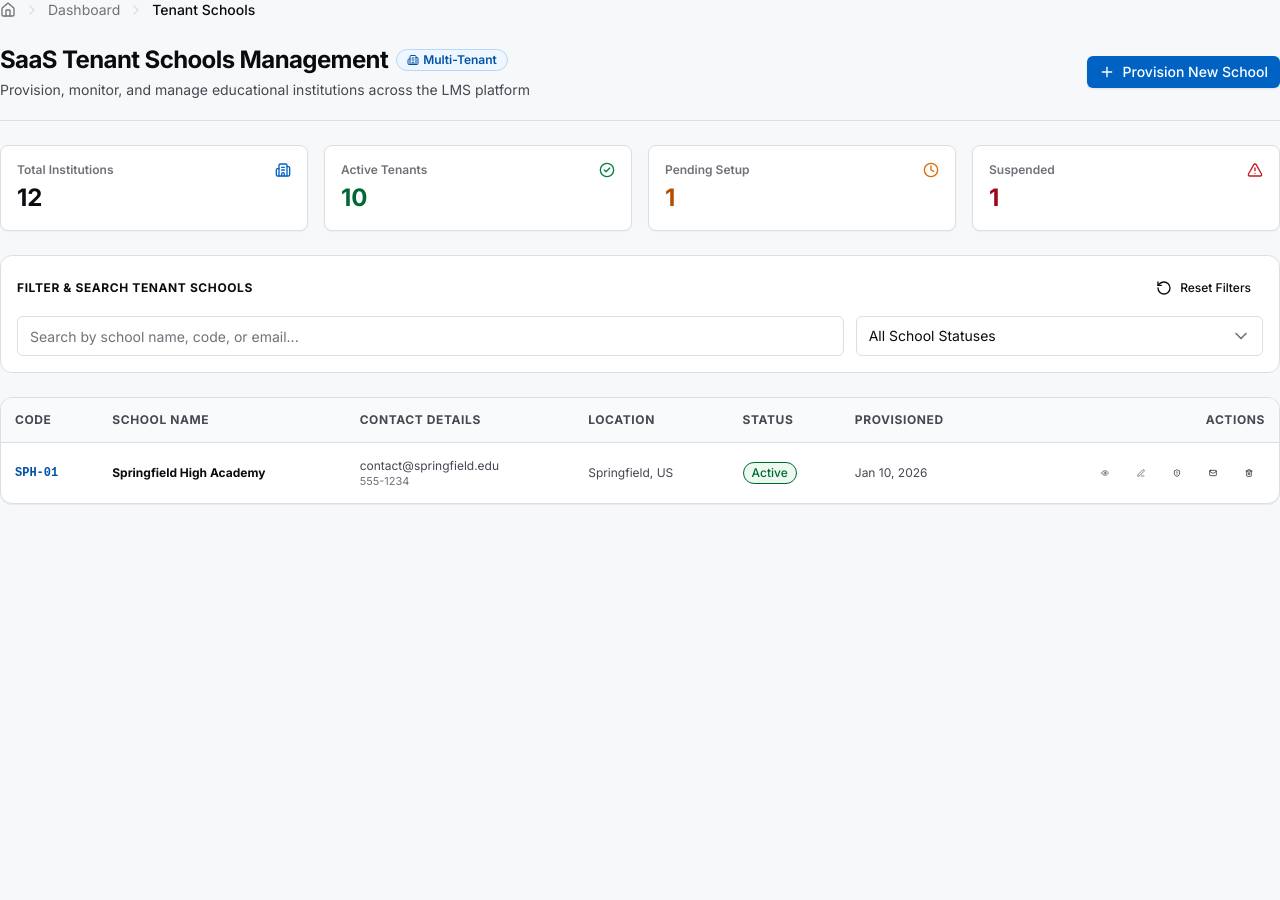
Scenario: SchoolsPage Component › should render multi-tenant schools directory, stats, and school rows
expect the heading "SaaS Tenant Schools Management" is shown: met, box [0,44,388,76]
expect the link "Springfield High Academy" is shown: met, box [112,465,265,480]
Click the button named "Change School Status": (1177, 473) [1161,457,1193,489]
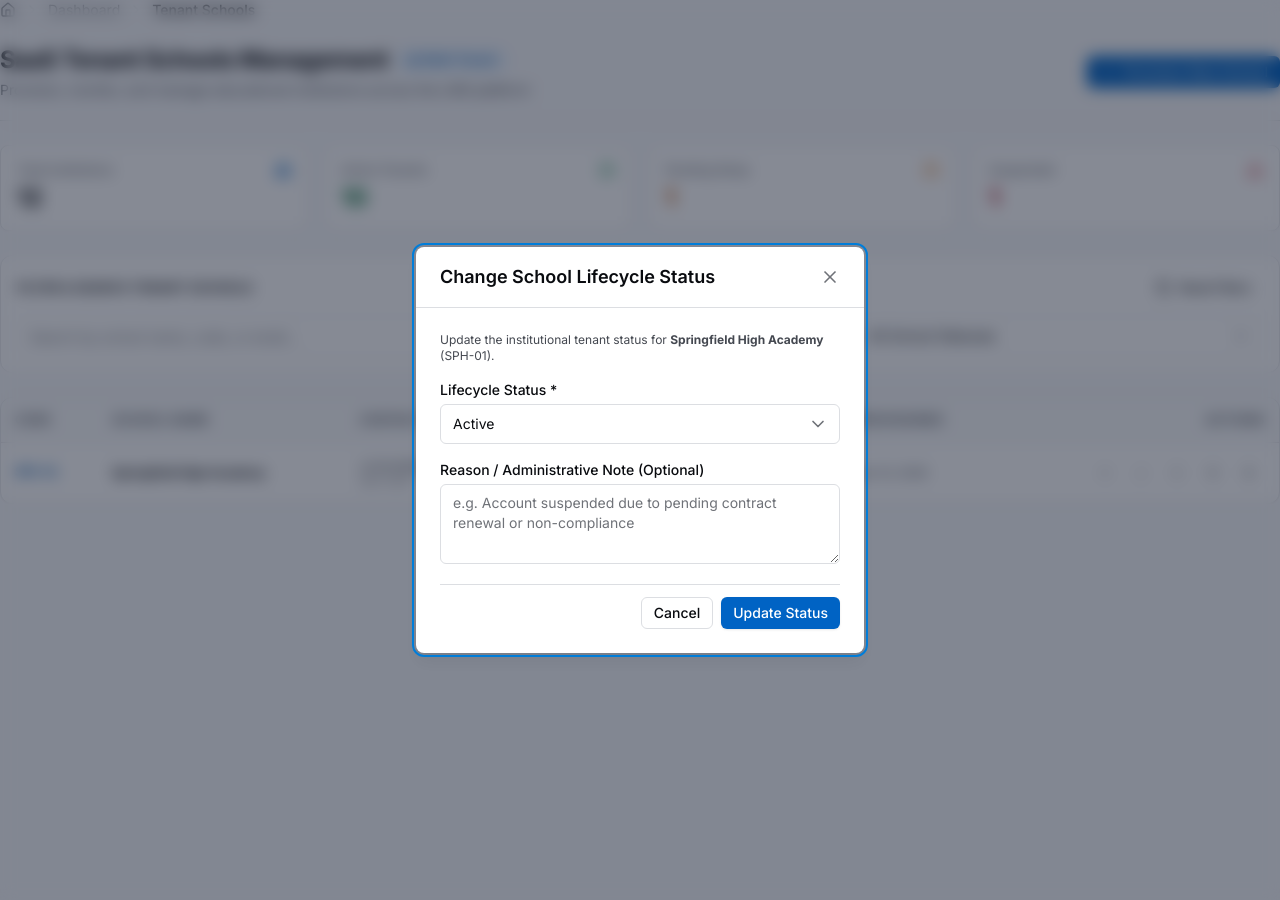
expect the heading "Change School Lifecycle Status" is shown: met, box [440,263,715,291]
